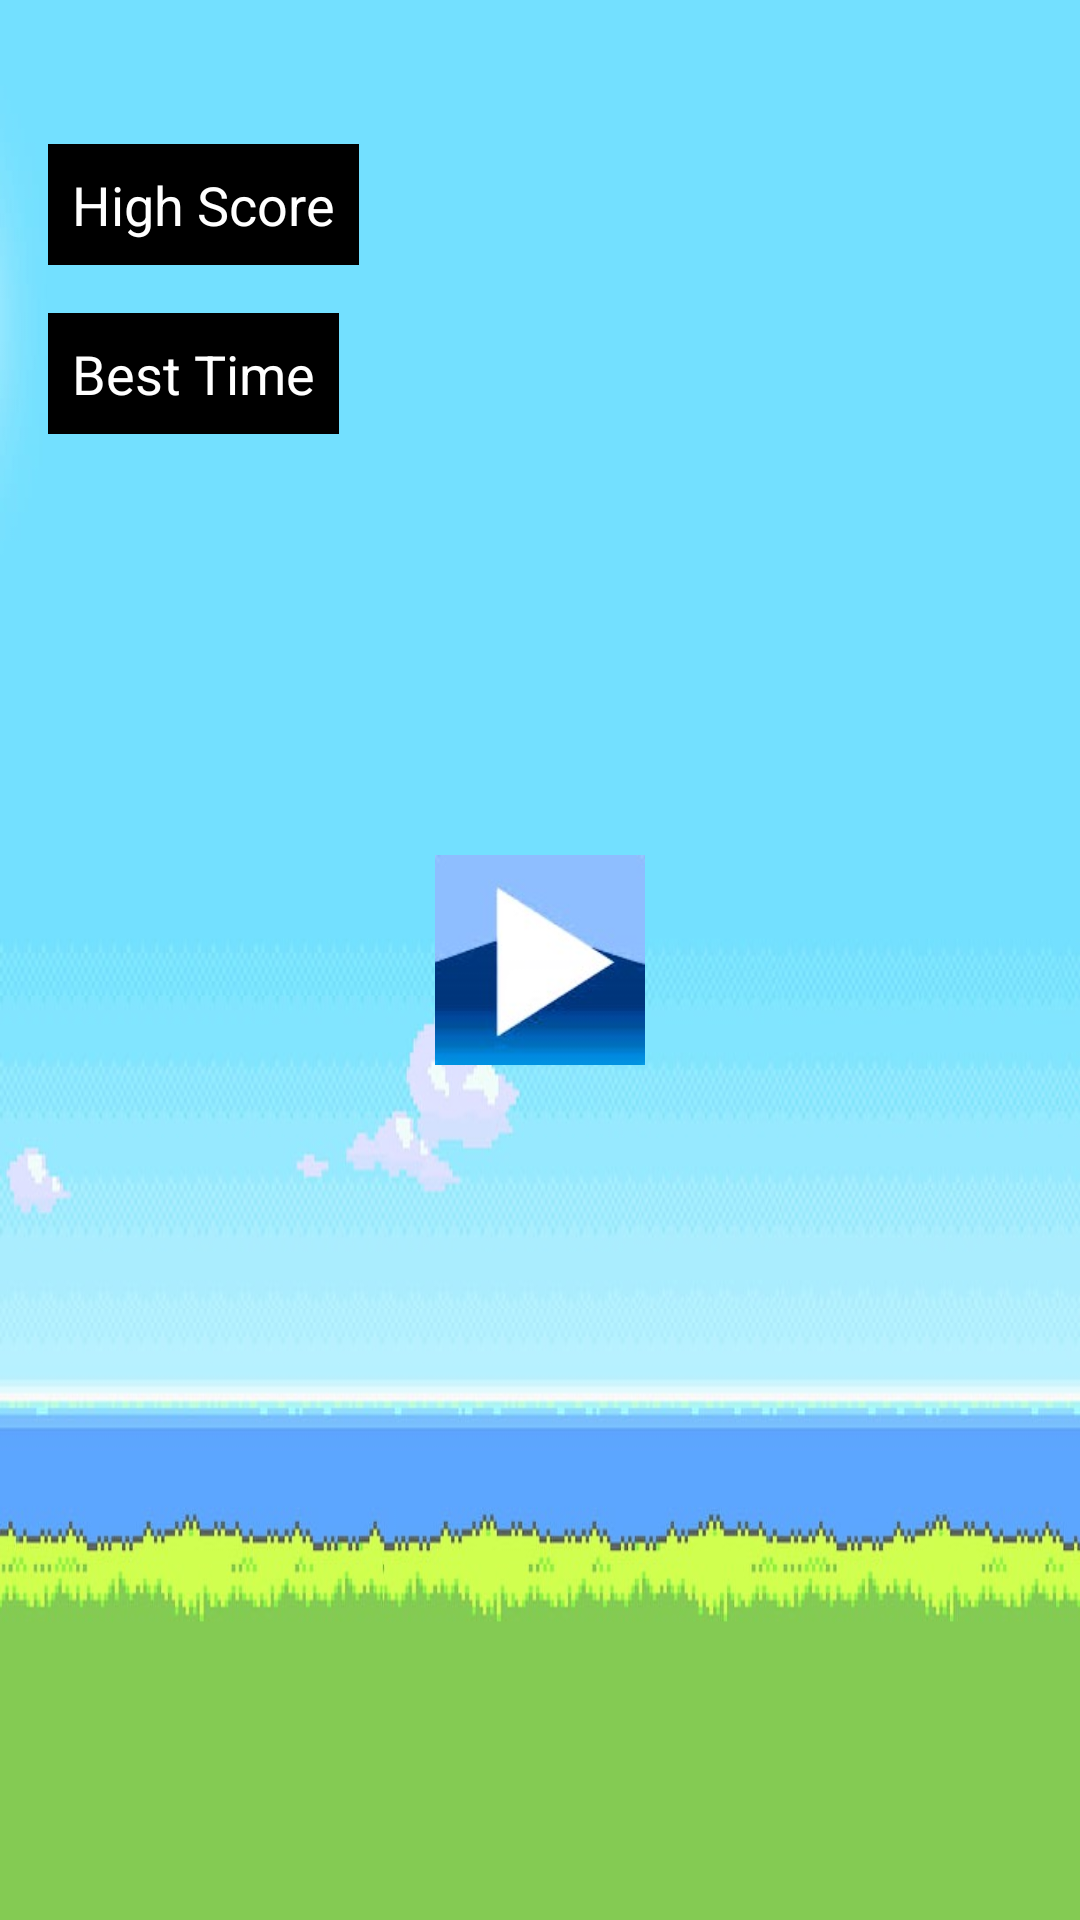

Where to tap for icons on this 1080px x 1920px app screen, as (x=x, y=y):
floppybird playbutton: (x=540, y=960)
